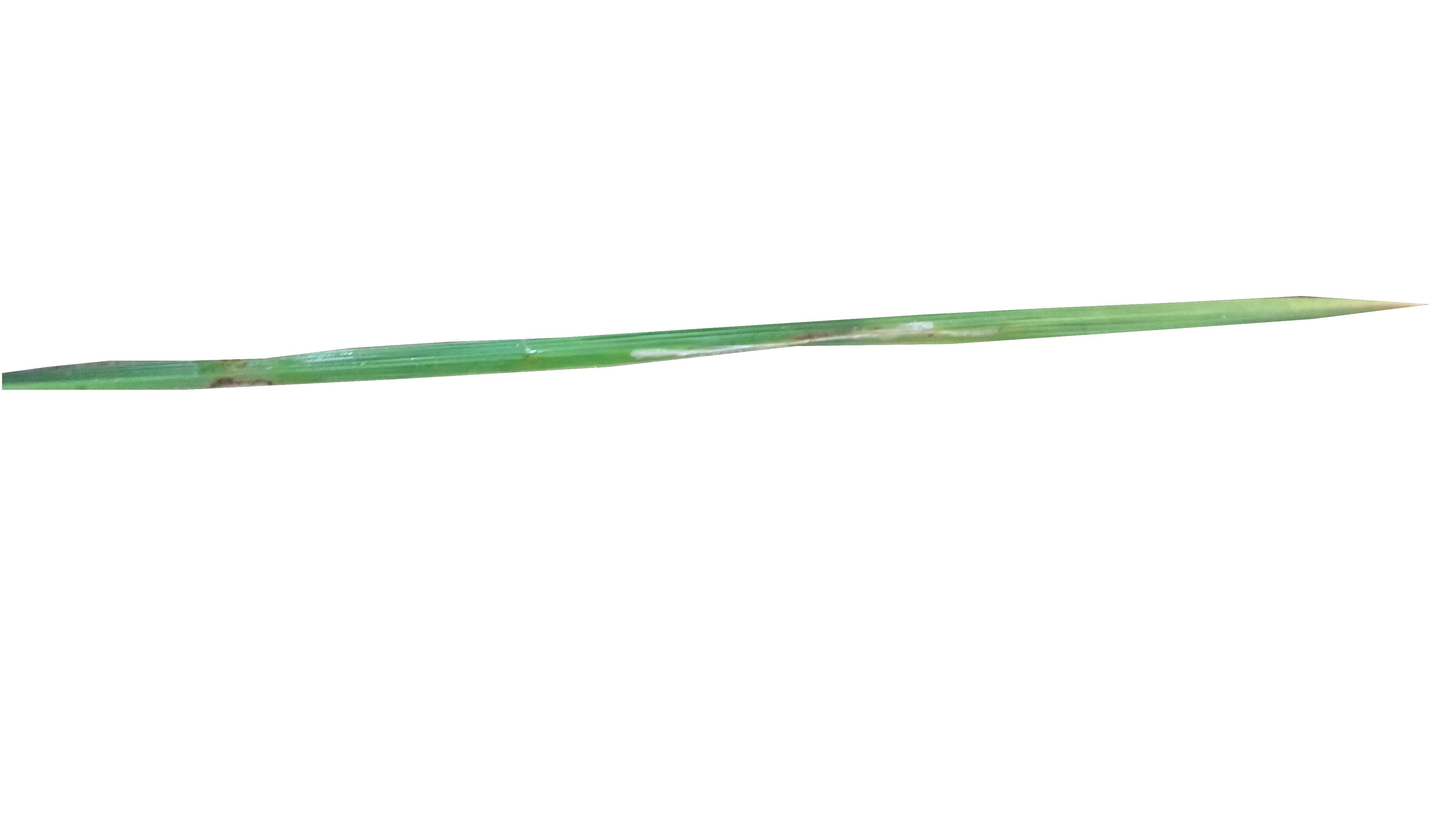Rice blast: (209, 358, 278, 392)
